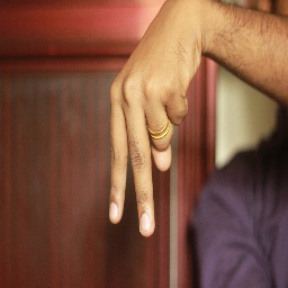Y: (101, 47, 198, 241)
